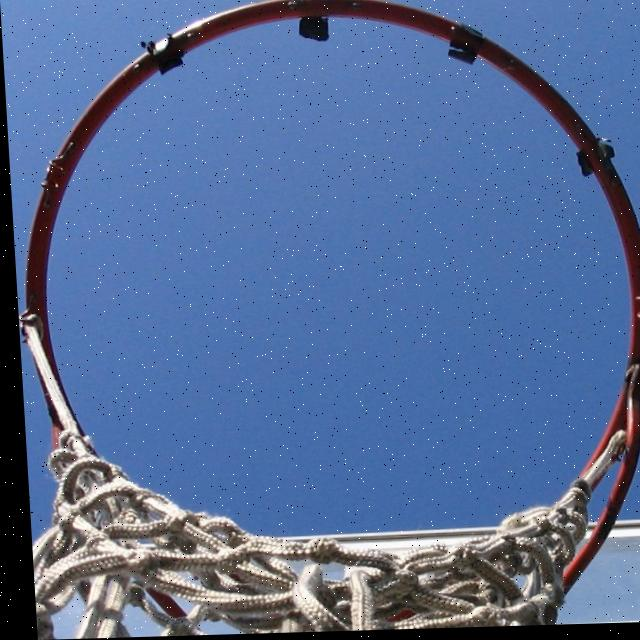hoop: (5, 0, 640, 640)
